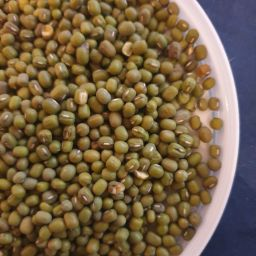Green gram dal(moong): (3, 73, 217, 190), (124, 5, 219, 256), (63, 3, 129, 256), (2, 3, 60, 256)
